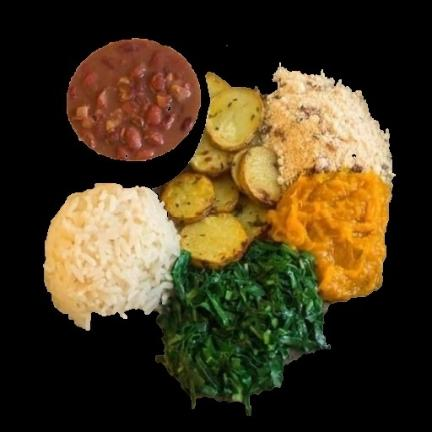beans: (67, 40, 200, 160)
potato: (161, 74, 281, 266)
rice: (44, 183, 180, 330)
salad: (158, 240, 326, 414)
